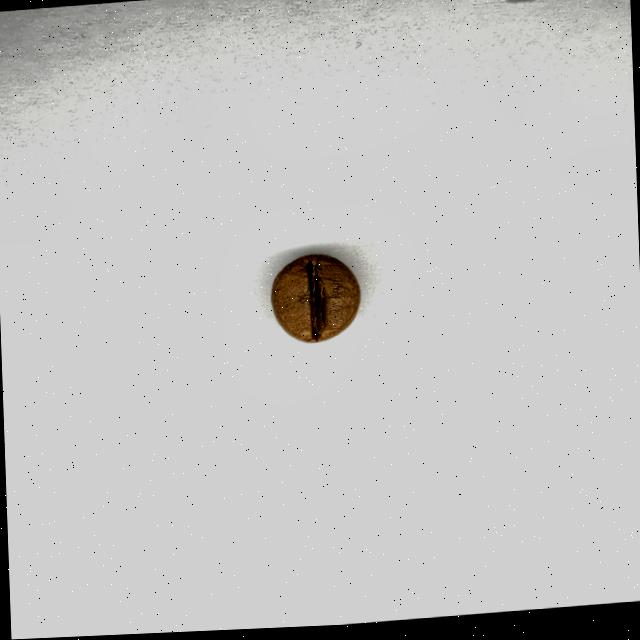Good bean: (268, 253, 362, 350)
